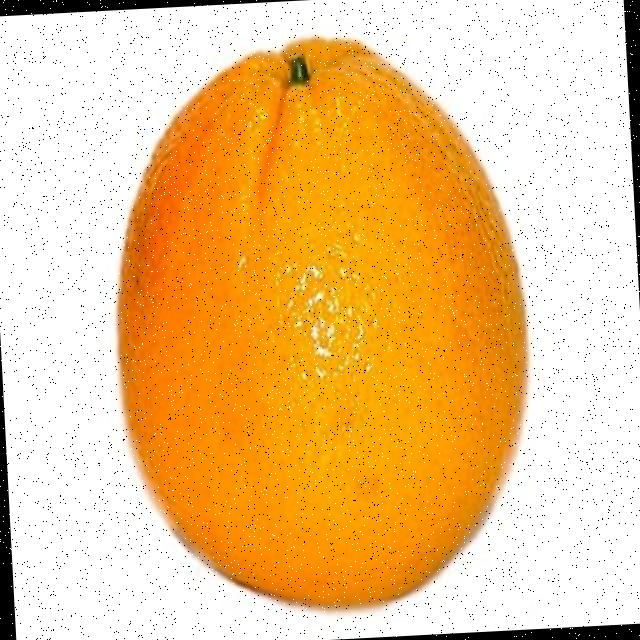orange: (119, 39, 527, 605)
